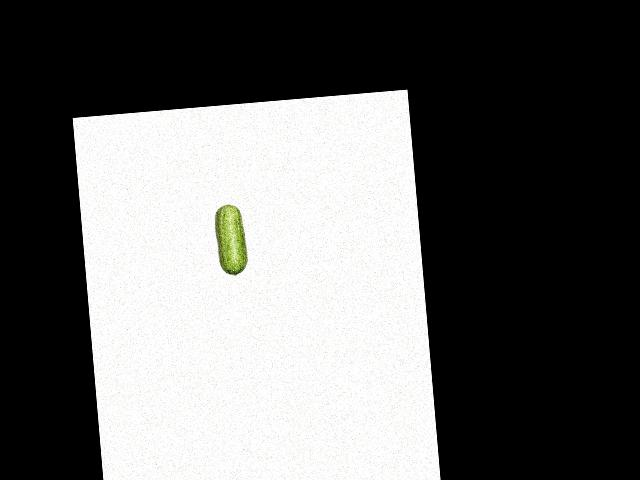cucumber: (213, 203, 248, 277)
